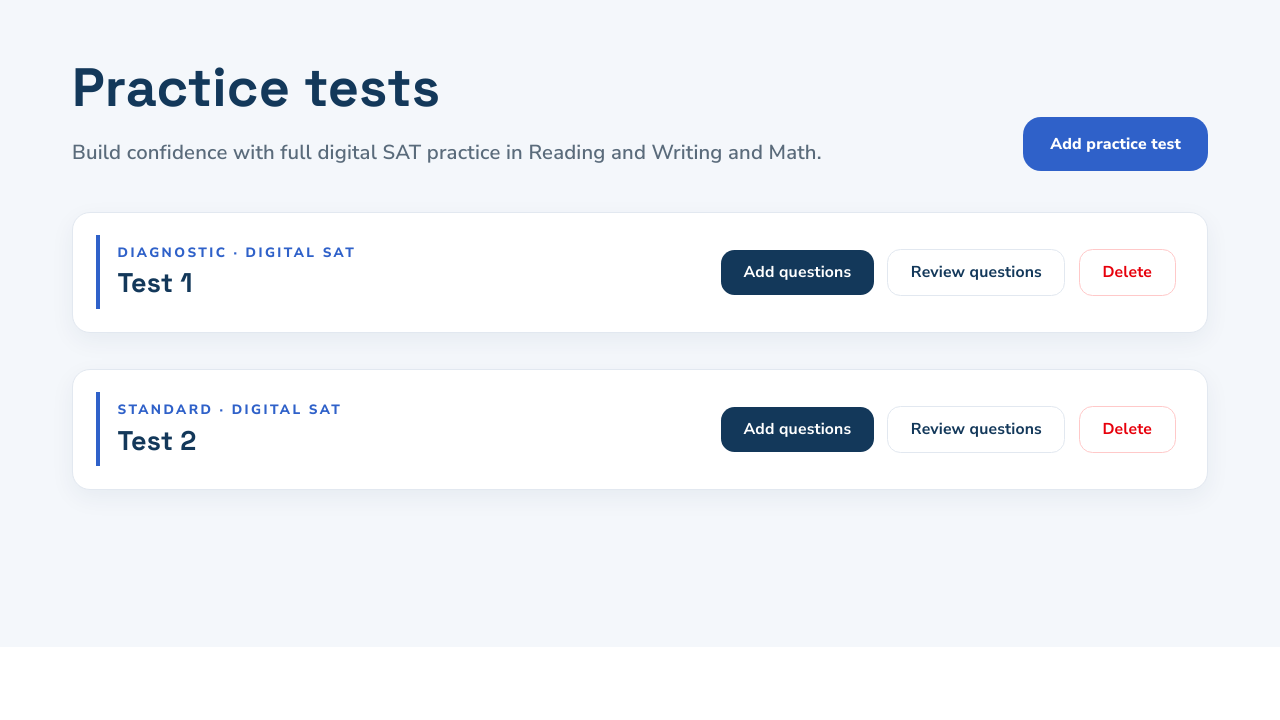
PracticeTestsList › deletes test after confirming
expect the heading "Test 1" is shown: met, box [118, 266, 193, 300]
Click the button "Delete" in the row of "diagnostic" at (1127, 272), box [1079, 249, 1176, 296]
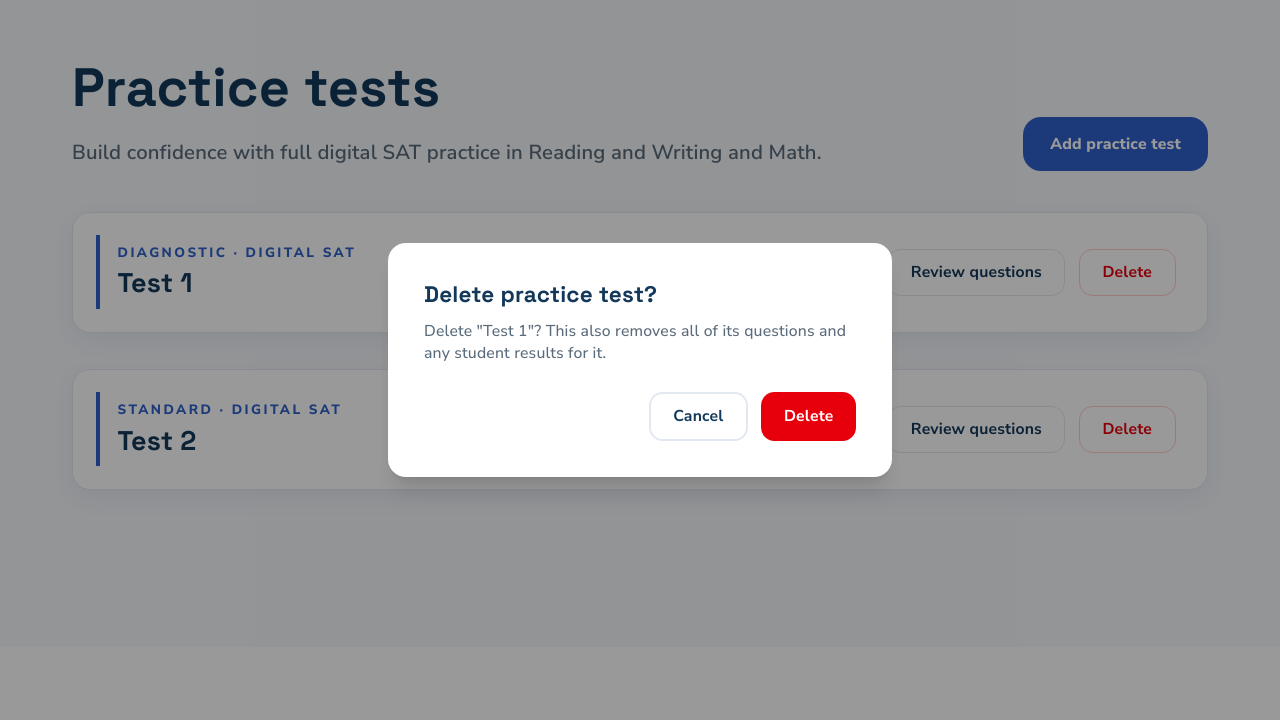
Click the button "Delete" at (809, 416), box [761, 392, 856, 441]
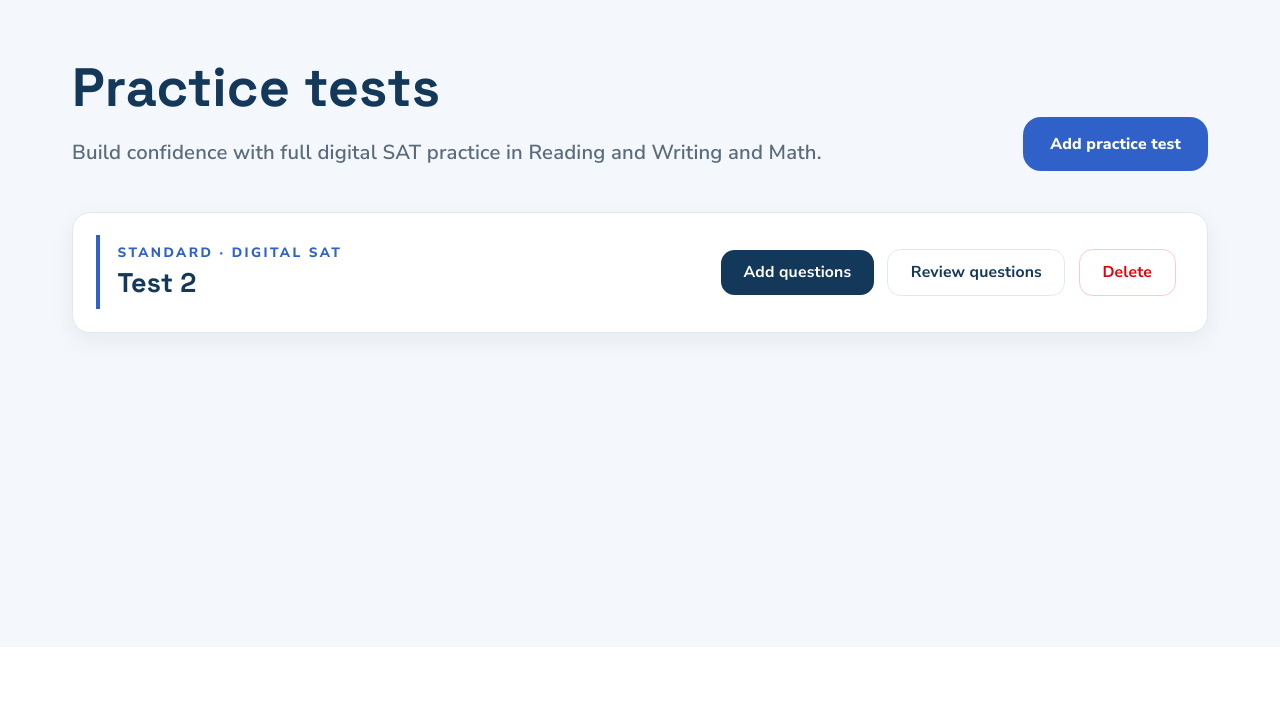
expect the heading "Test 2" is shown: met, box [118, 266, 197, 300]
expect the heading "Test 1" is gone: met
